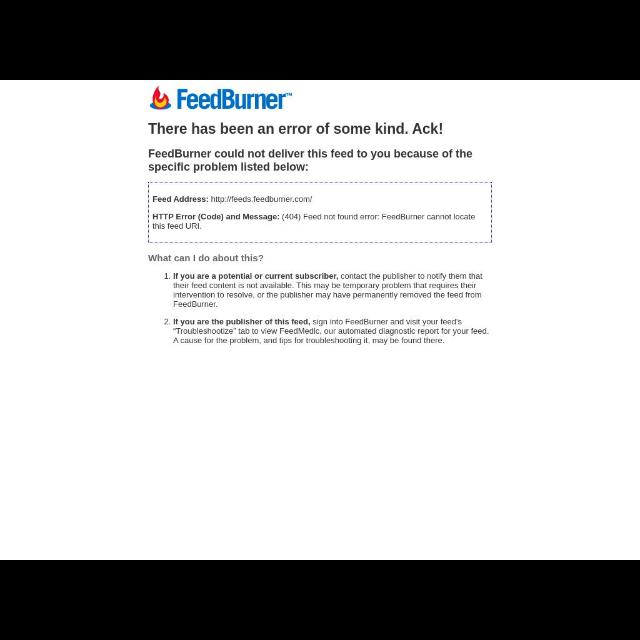image: (150, 85, 294, 111)
text: (164, 270, 486, 310), (147, 147, 475, 177), (163, 318, 491, 347), (152, 213, 478, 233), (148, 122, 446, 138), (152, 195, 314, 203), (147, 253, 266, 263)
